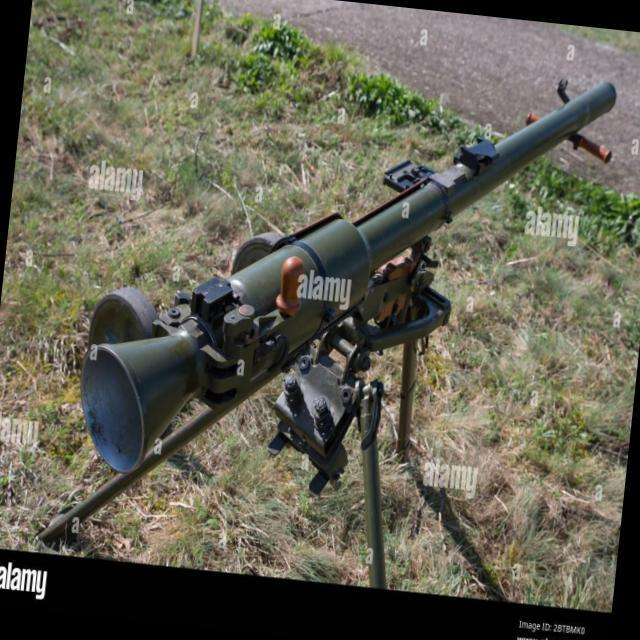rocket: (63, 30, 619, 521)
